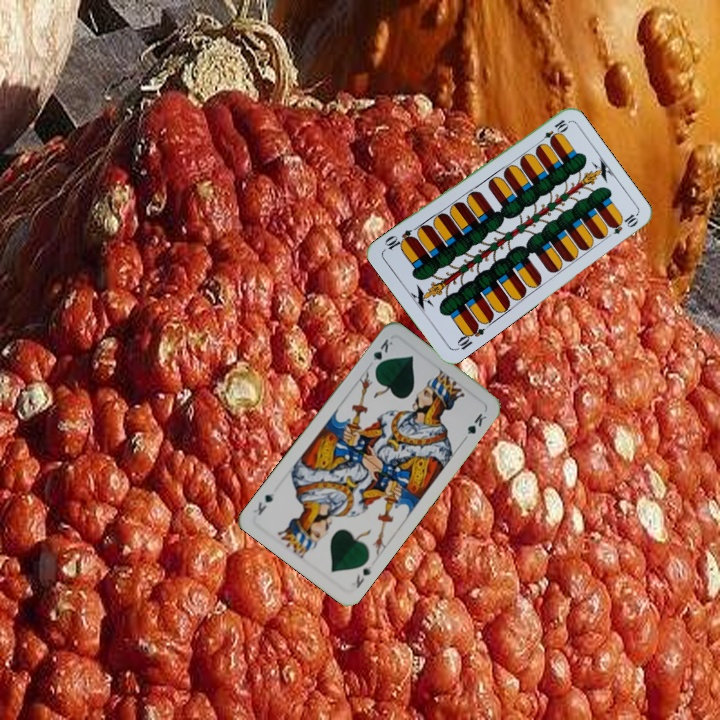E10: (452, 319, 487, 353), (534, 115, 570, 147)
GK: (369, 334, 395, 372), (352, 562, 375, 591)
